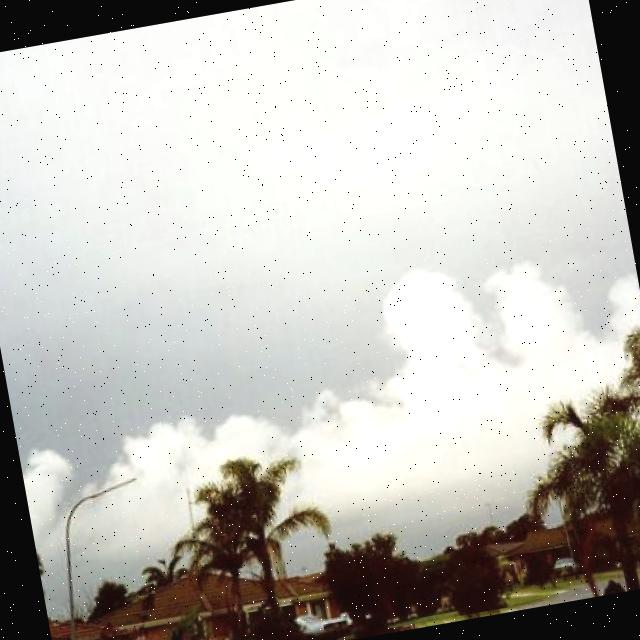St: (1, 106, 640, 522)
